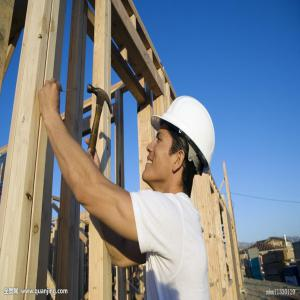white: (142, 94, 217, 198)
